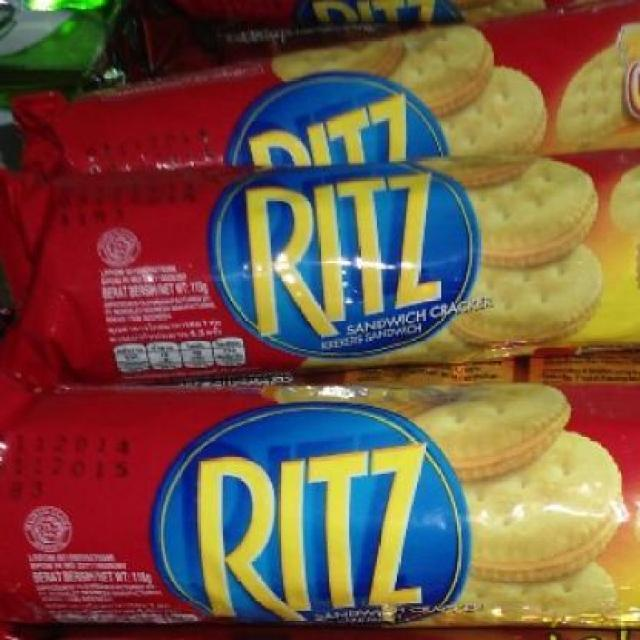Ritz cracker: (14, 29, 638, 638)
